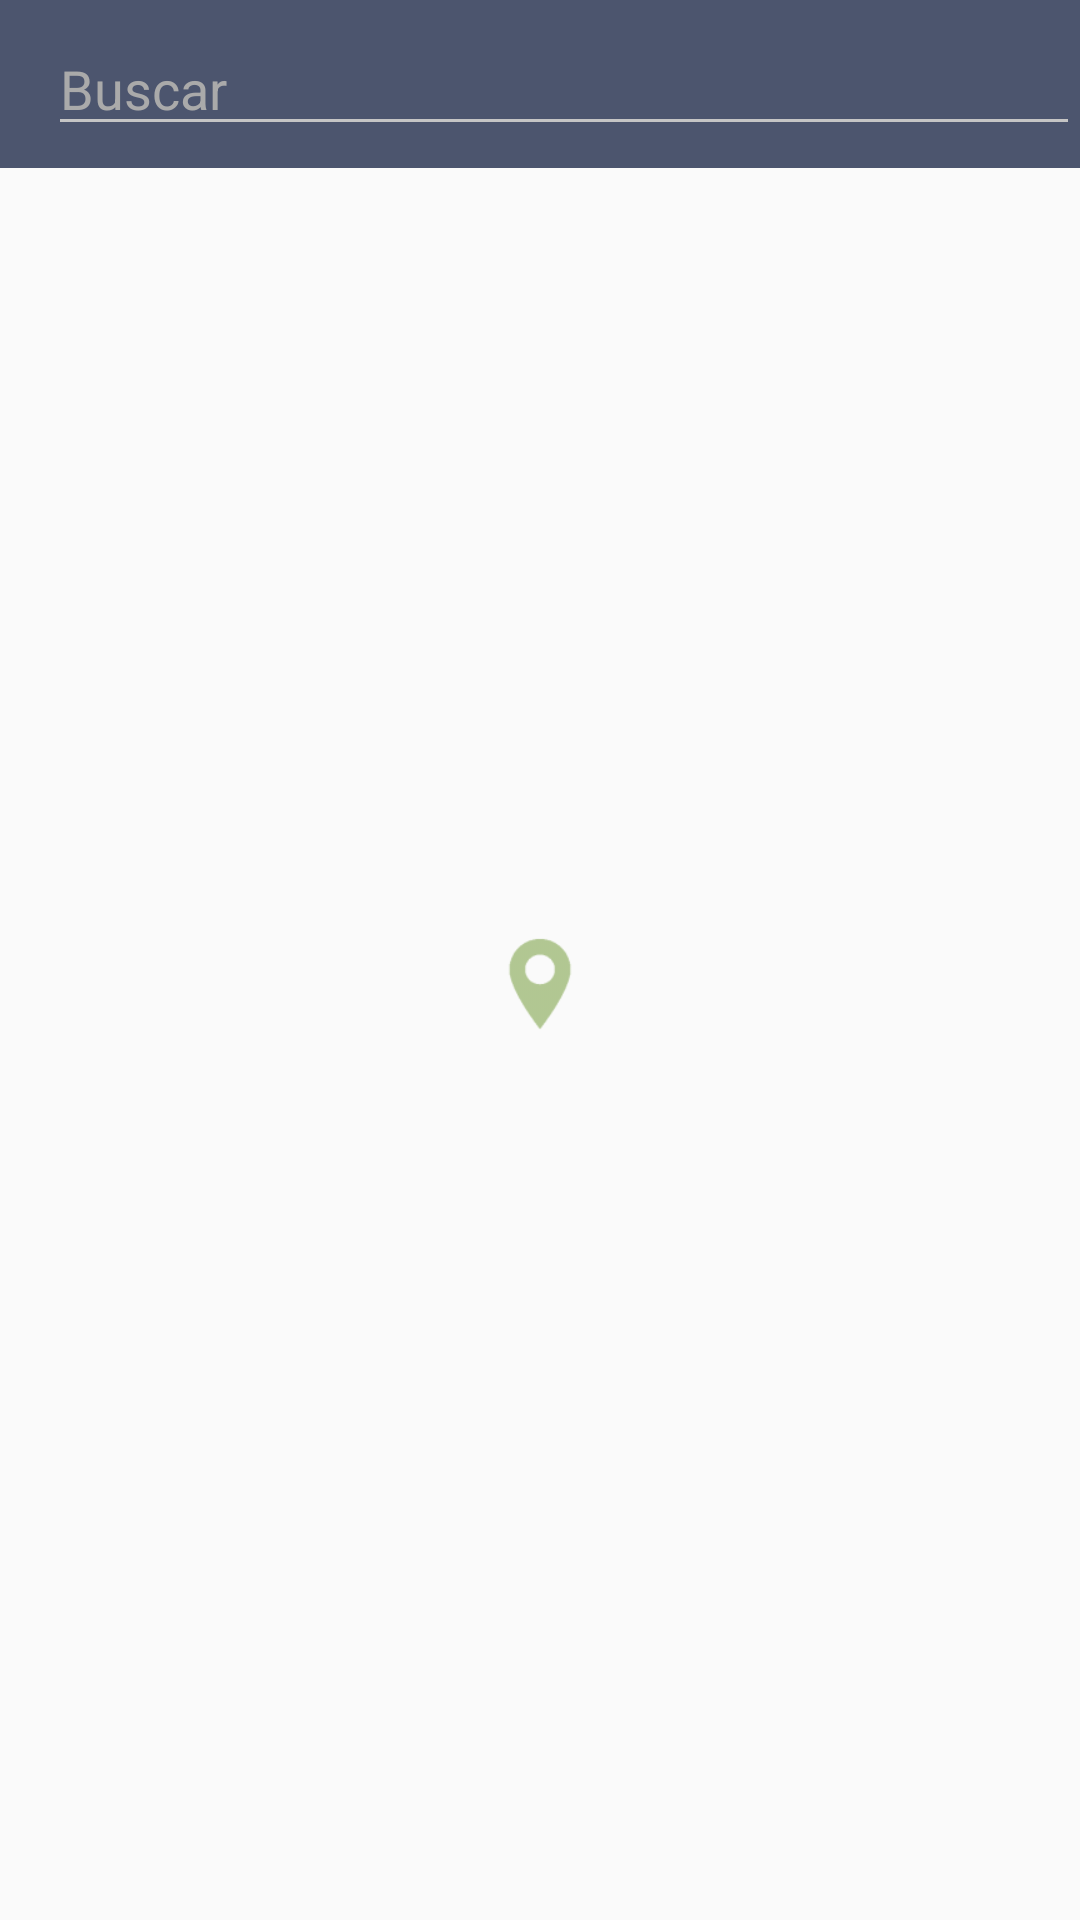

Where icons sit on this 1080px x 1920px app screen, as [x1, y1, x2, y2]:
location: [509, 939, 571, 1029]
